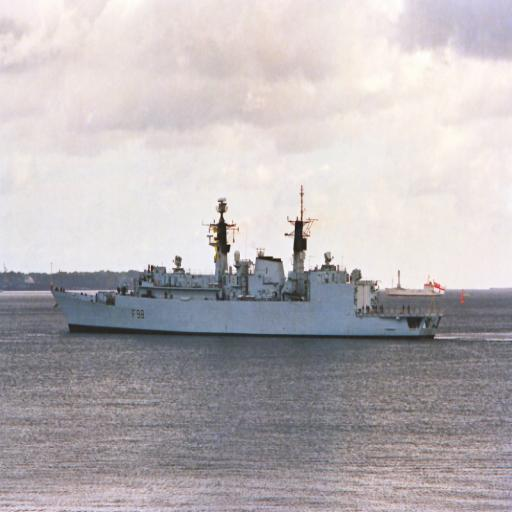Fragata: (49, 187, 446, 341)
